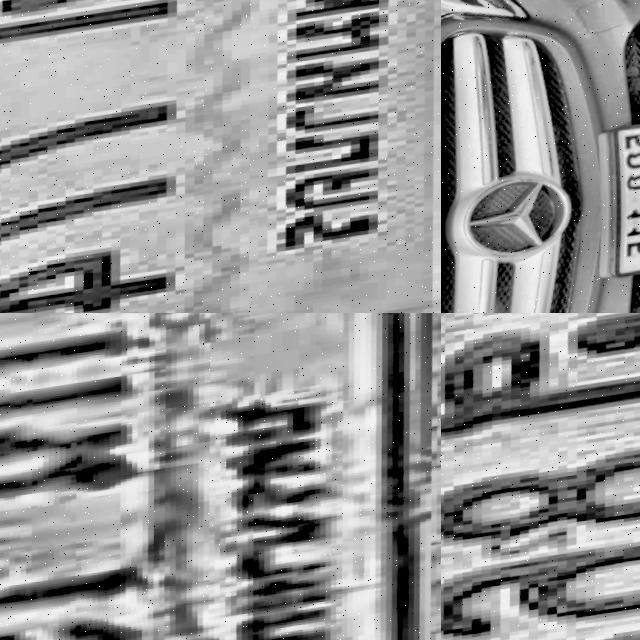license-plate: (0, 313, 441, 640), (0, 0, 441, 313), (441, 313, 640, 640), (587, 119, 640, 289)
